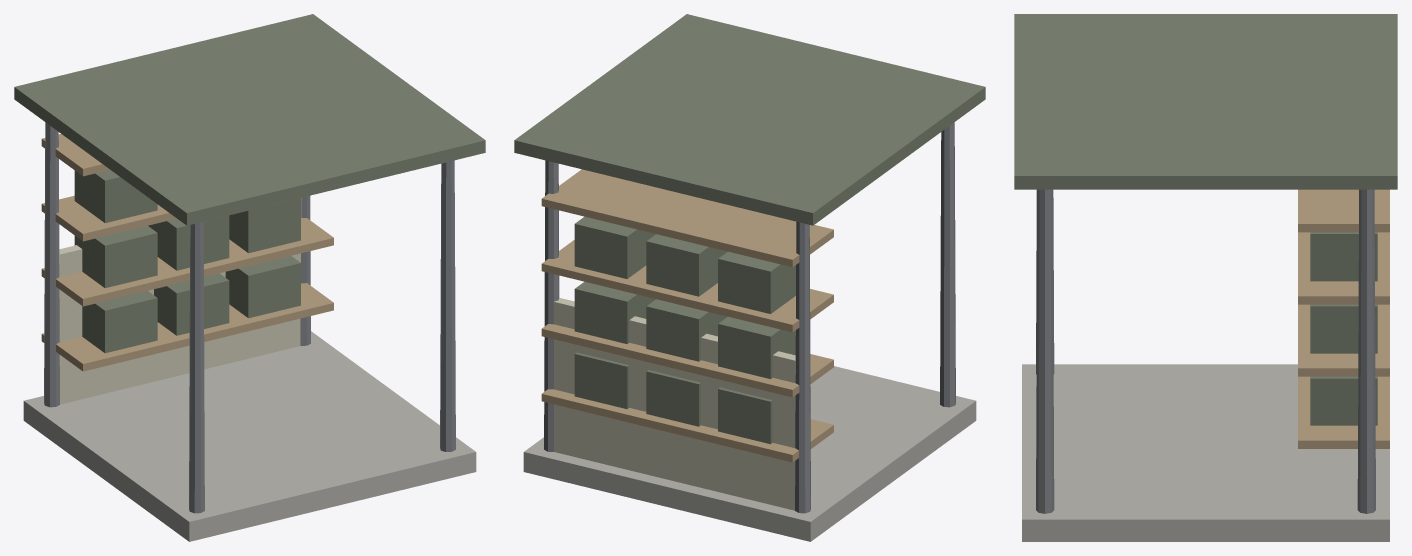
File: supply-point.glb
The picture shows the model from 3 angles, left to right: view 1: azimuth 30°, elevation 25°; view 2: azimuth 150°, elevation 25°; view 3: azimuth 270°, elevation 25°; orthographic projection. The views are drawn at different scales.
Visible parts, largest first — view 1: supply-point; view 2: supply-point; view 3: supply-point.
Part boxes in pixels (x1,y1,x2,y2): supply-point: (14,14,485,541); supply-point: (514,14,985,541); supply-point: (1014,14,1397,541).
Bounding box in the file's own units: 2.5 × 2.66 × 2.5.
